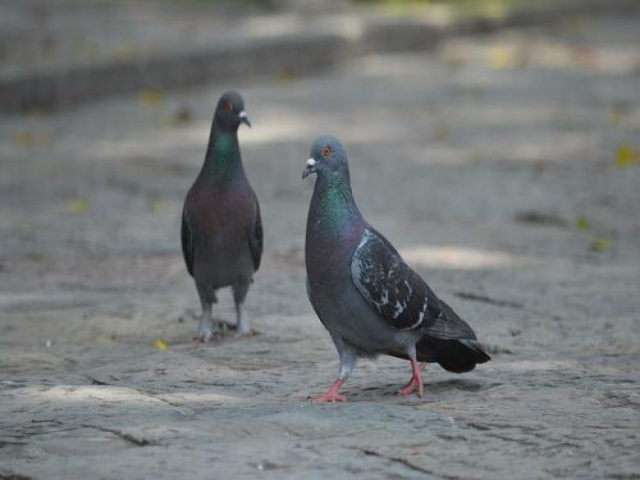Pigeon: (301, 129, 487, 406), (168, 90, 267, 347)
